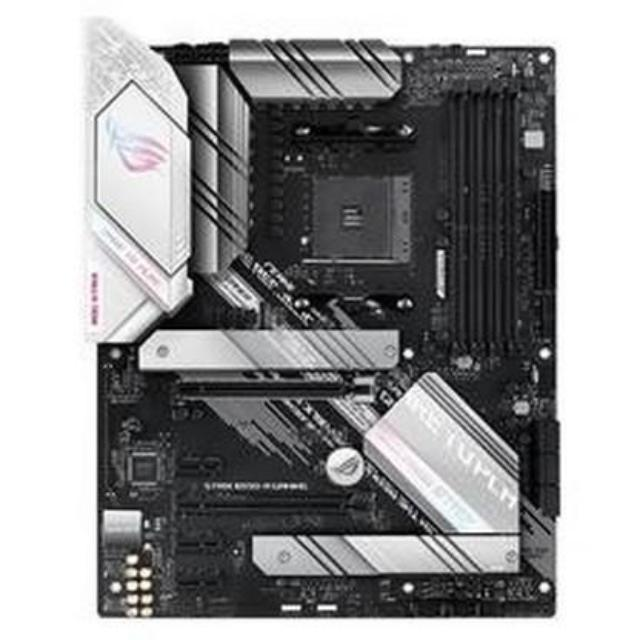Mainboard: (79, 16, 566, 624)
